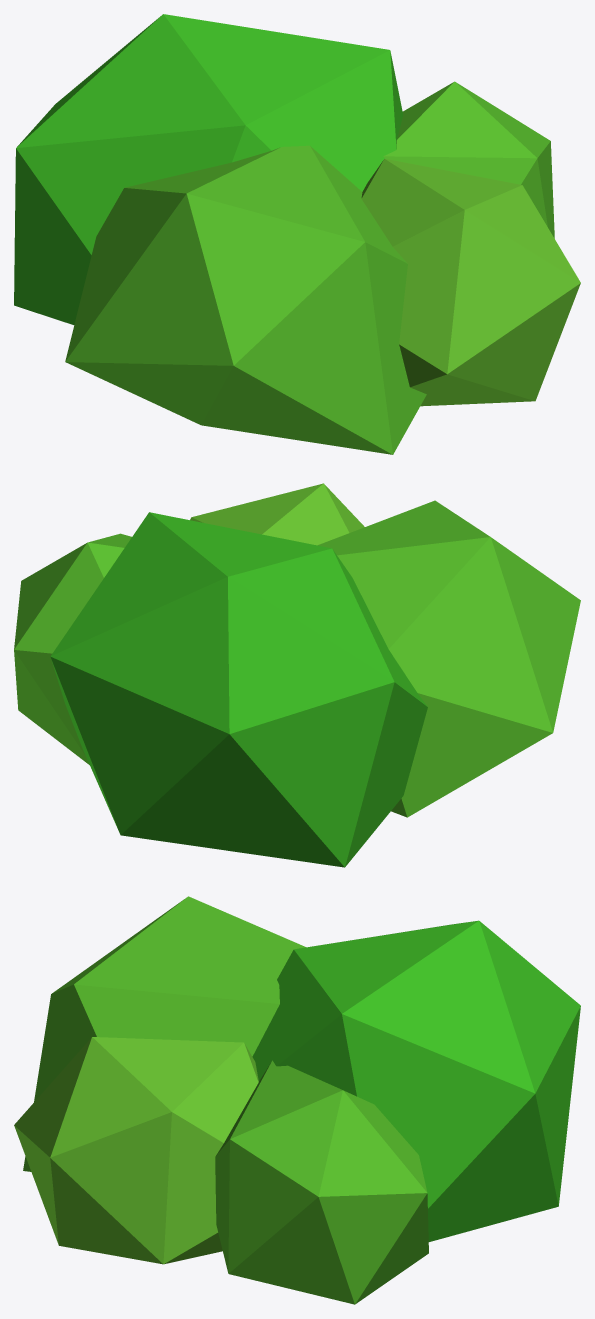
The model's file is bush3good.fbx.
3 views of the same model, one above another, from view 1: azimuth 30°, elevation 25°; view 2: azimuth 150°, elevation 25°; view 3: azimuth 270°, elevation 25° (orthographic). The views are drawn at different scales.
Parts seen in each view (by area): view 1: Icosphere.047; view 2: Icosphere.047; view 3: Icosphere.047.
Part boxes in pixels (box(x1,y1,x2,y2)): Icosphere.047: box(14, 14, 580, 454); Icosphere.047: box(14, 483, 580, 867); Icosphere.047: box(14, 896, 580, 1304).
Size of the model in its own units: 412 by 204 by 401.
